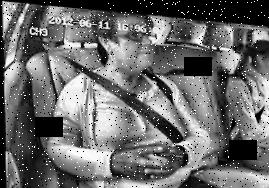seatbelt: (45, 42, 179, 139), (215, 91, 265, 160)
